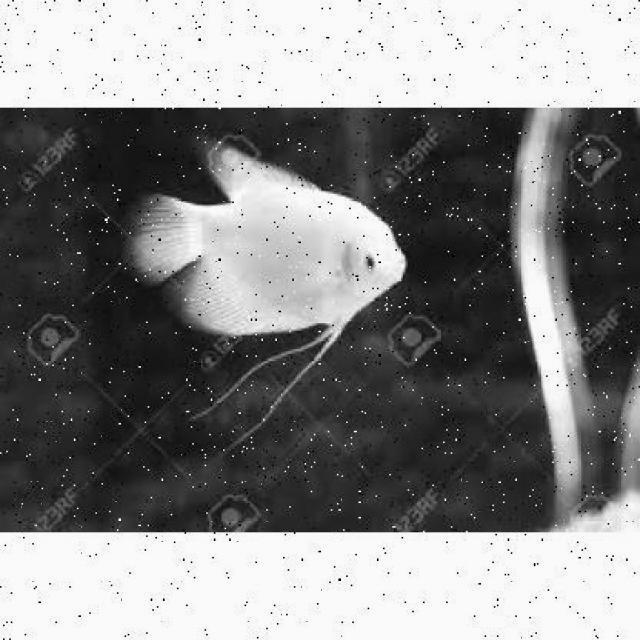gurame: (128, 144, 410, 353)
